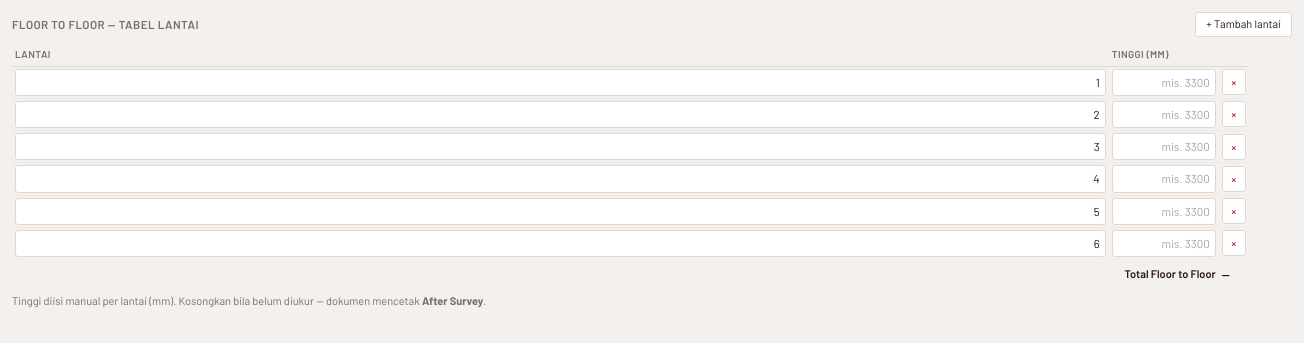
Tabel Lantai — editor Floor to Floor › menerima angka bersatuan (titik ribuan diabaikan)
The width and height of the screenshot is (1304, 343).
In the field named "Tinggi lantai 1 (mm)": (1164, 82) [1112, 68, 1216, 96], type "4.300 mm"
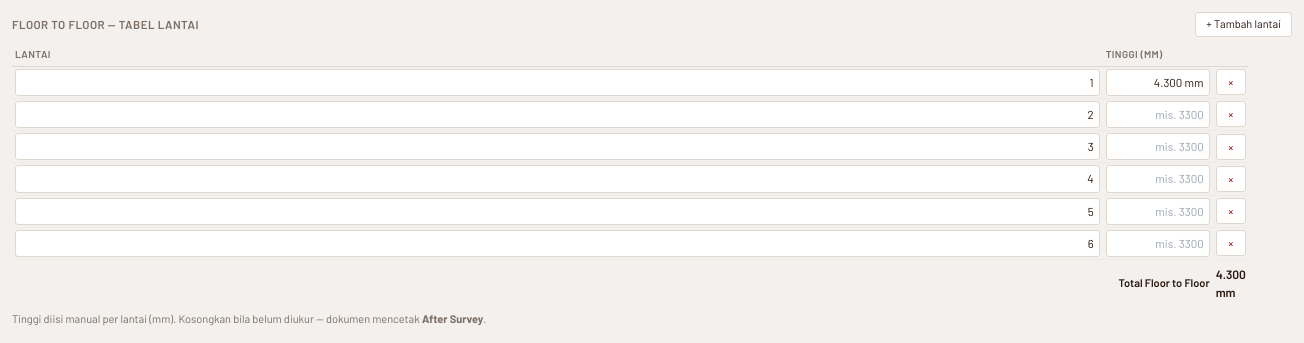
In the field named "Tinggi lantai 2 (mm)": (1158, 114) [1106, 101, 1210, 128], type "3300"
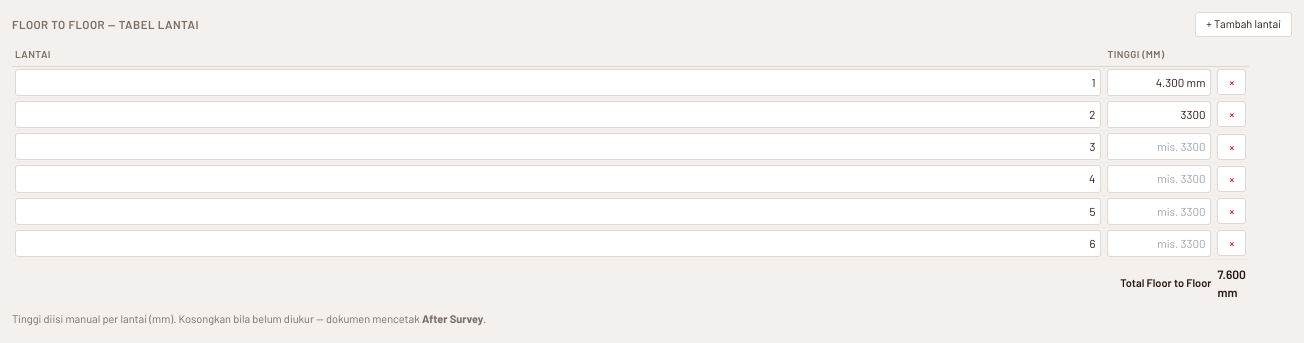
Now the cell with test id "total" reads "7.600 mm", box [1218, 267, 1246, 299]
